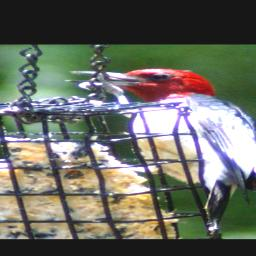Woodpecker: (60, 67, 256, 239)
